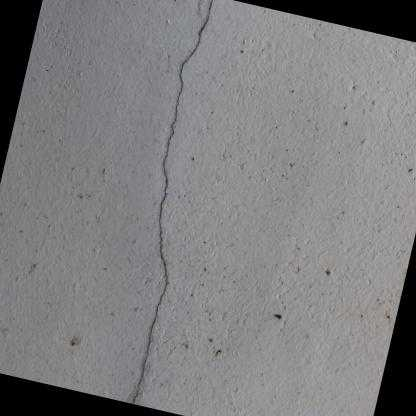crack: (133, 0, 213, 404)
